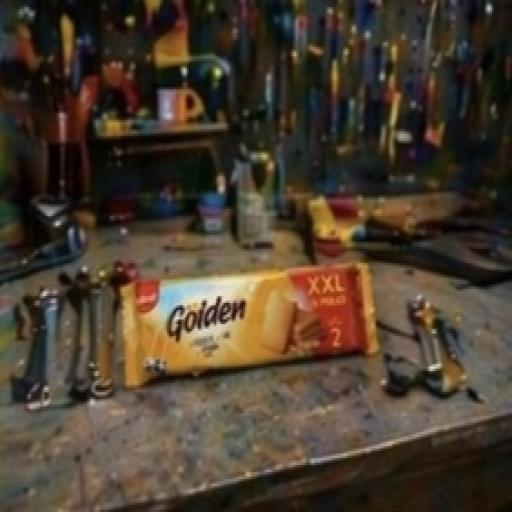golden: (88, 218, 433, 396)
